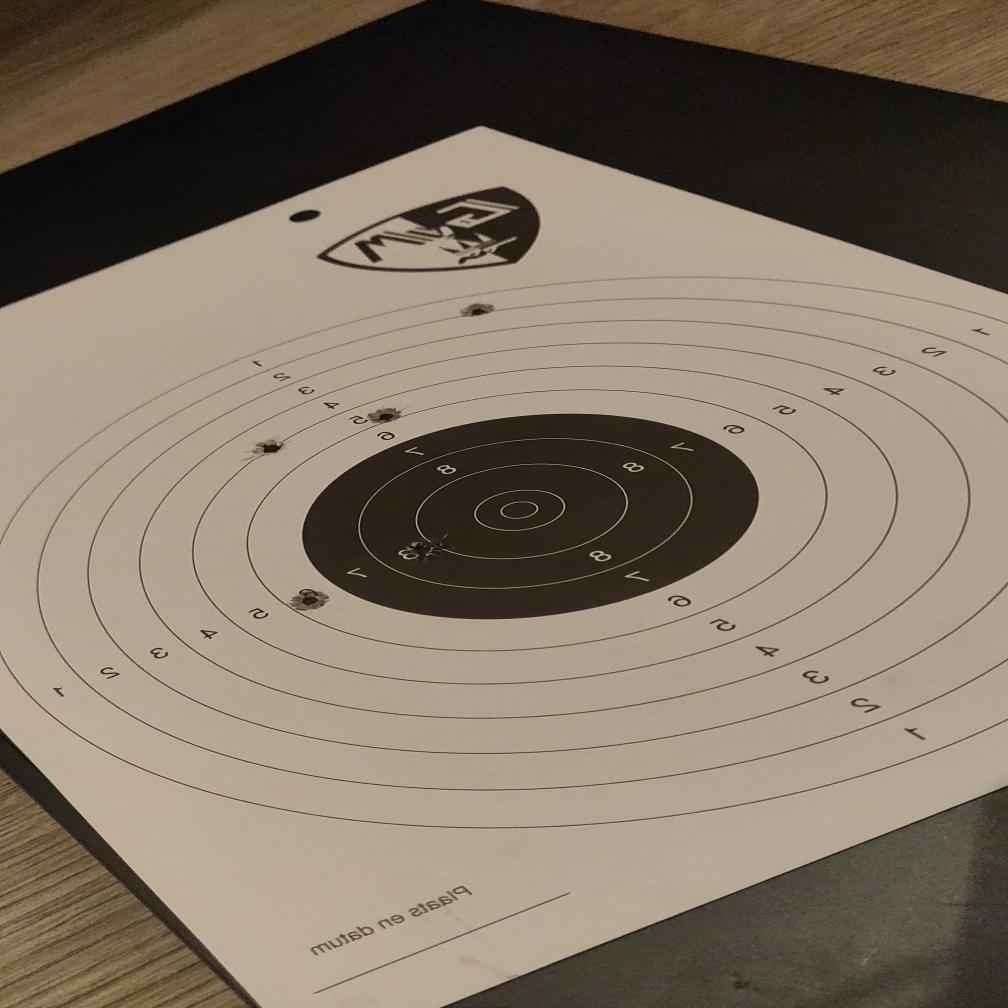2: (457, 302, 496, 318)
5: (243, 436, 287, 460)
6: (284, 588, 329, 612), (366, 405, 402, 424)
9: (398, 534, 456, 562)
Target: (0, 274, 1007, 832)
black_contour: (297, 410, 762, 621)
